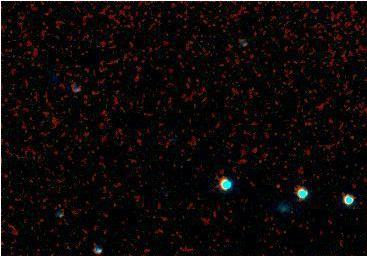star: (262, 173, 292, 203)
